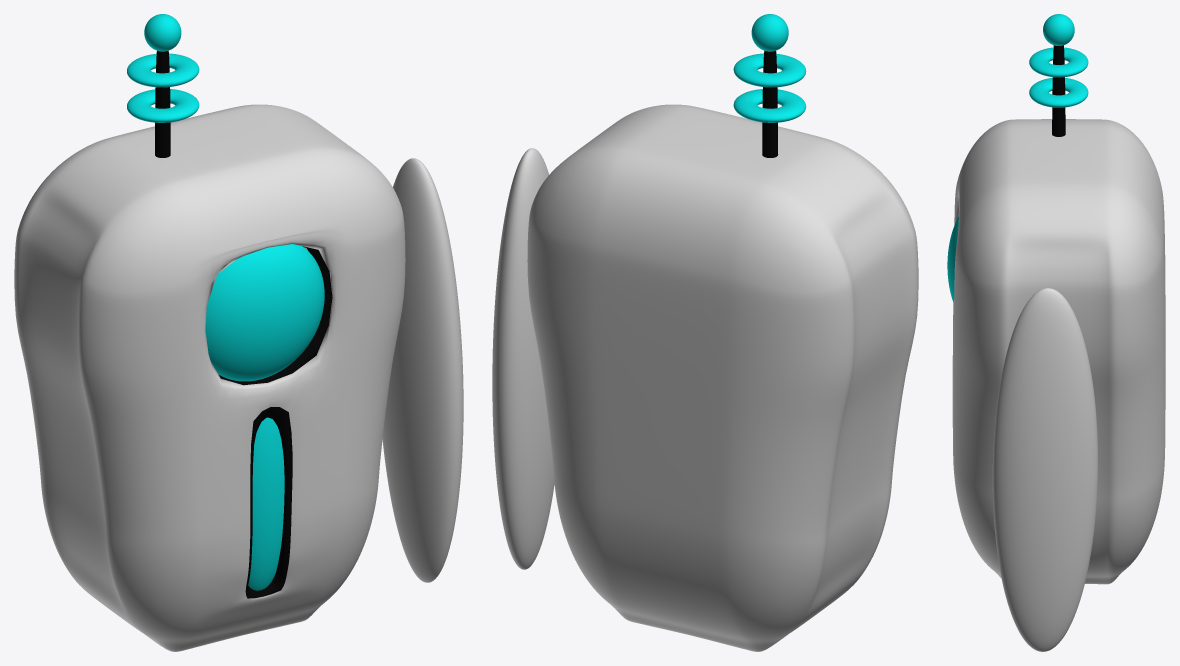
The model's file is SM_KIWI.fbx.
3 views of the same model, side by side, from view 1: azimuth 30°, elevation 25°; view 2: azimuth 150°, elevation 25°; view 3: azimuth 270°, elevation 25° (orthographic). The views are drawn at different scales.
Visible parts, largest first — view 1: SM_Body, SM_RightArm, SM_Energie, SM_Antenne; view 2: SM_Body, SM_RightArm, SM_Antenne; view 3: SM_Body, SM_RightArm, SM_Antenne, SM_Energie.
Boxes of the visible parts, left/top/right/bottom form: SM_Body: left=14, top=104, right=405, bottom=651; SM_RightArm: left=382, top=158, right=463, bottom=582; SM_Energie: left=205, top=244, right=324, bottom=590; SM_Antenne: left=127, top=14, right=199, bottom=157; SM_Body: left=527, top=104, right=918, bottom=651; SM_RightArm: left=492, top=148, right=554, bottom=569; SM_Antenne: left=733, top=14, right=806, bottom=157; SM_Body: left=952, top=119, right=1165, bottom=584; SM_RightArm: left=992, top=288, right=1097, bottom=651; SM_Antenne: left=1029, top=14, right=1088, bottom=136; SM_Energie: left=947, top=216, right=958, bottom=303.
Bounding box in the file's own units: 3.38 × 5.15 × 1.92.
